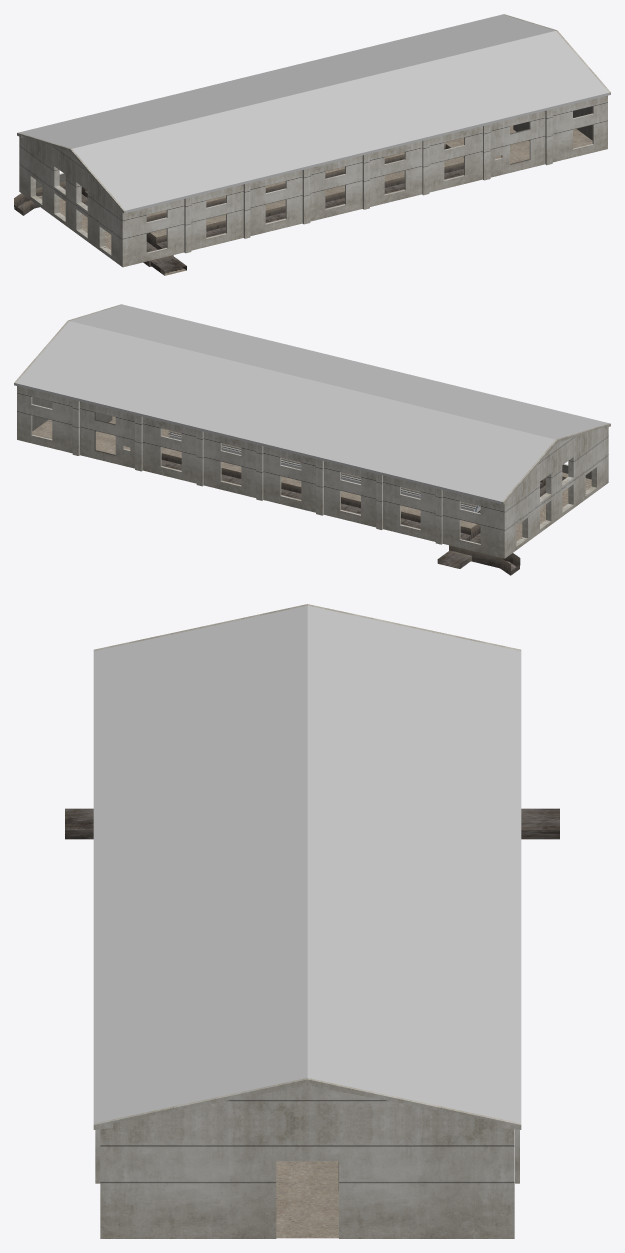
Rendered from fangzi.FBX.
3 views of the same model, one above another, from view 1: azimuth 30°, elevation 25°; view 2: azimuth 150°, elevation 25°; view 3: azimuth 270°, elevation 25° (orthographic). The views are drawn at different scales.
Parts seen in each view (by area): view 1: fangzi; view 2: fangzi, jilong_01, jilong_02; view 3: fangzi.
Part boxes in pixels (x1,y1,x2,y2): fangzi: (14,14,610,275); fangzi: (14,304,610,575); jilong_01: (169,432,480,512); jilong_02: (168,430,480,512); fangzi: (65,604,559,1238).
Size of the model in its own units: 6159 by 1152 by 2682.
